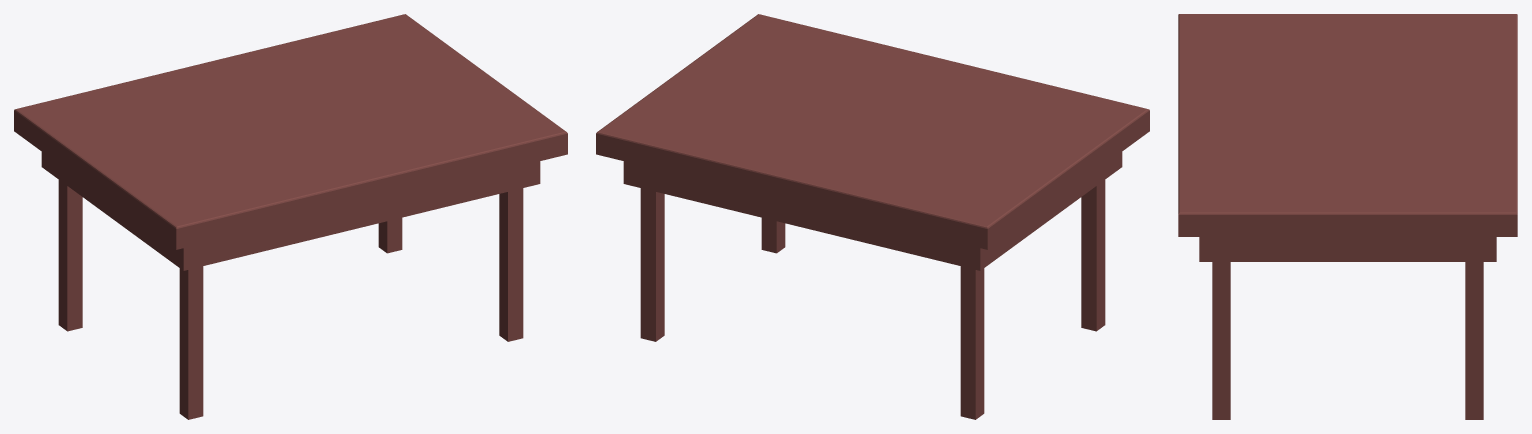
The model's file is Table_01.glb.
3 renders of one model, left to right at view 1: azimuth 30°, elevation 25°; view 2: azimuth 150°, elevation 25°; view 3: azimuth 270°, elevation 25°, orthographic. The views are drawn at different scales.
Visible parts, largest first — view 1: Cube.001; view 2: Cube.001; view 3: Cube.001.
Part boxes in pixels (bbox=[...]): Cube.001: bbox=[14, 14, 567, 419]; Cube.001: bbox=[596, 14, 1149, 419]; Cube.001: bbox=[1178, 14, 1517, 419].
Bounding box in the file's own units: 1.72 × 0.8887 × 1.24.
